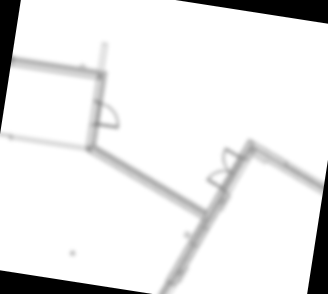door: (90, 99, 123, 131)
double door: (201, 143, 250, 199)
window: (162, 234, 201, 293)
